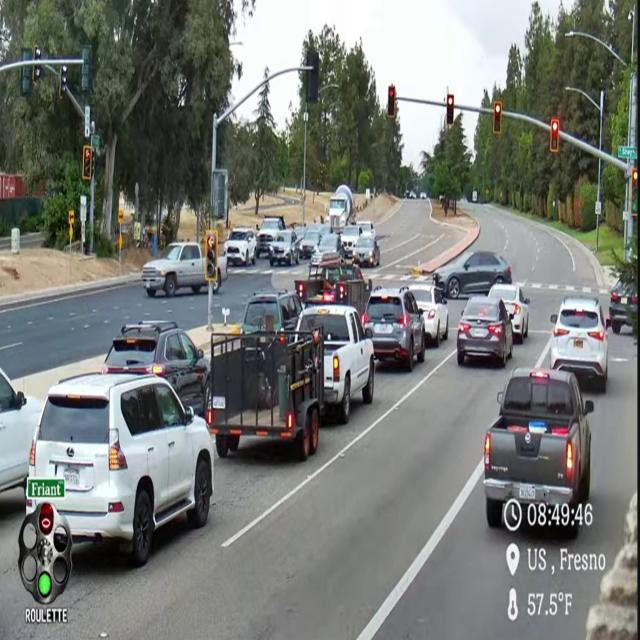car: (29, 374, 213, 566), (102, 320, 210, 415), (550, 297, 610, 392), (362, 287, 426, 370), (0, 368, 41, 491), (457, 296, 513, 367), (433, 251, 511, 299), (242, 290, 302, 333), (409, 283, 448, 345), (489, 284, 529, 343), (609, 281, 637, 334), (225, 228, 256, 266), (269, 230, 299, 266), (312, 232, 343, 260), (353, 235, 380, 266), (341, 224, 362, 258), (300, 225, 321, 259), (357, 221, 376, 238), (409, 191, 416, 199), (420, 192, 426, 199)
traffic signal: (306, 50, 319, 103), (205, 230, 218, 282), (81, 45, 92, 94), (20, 66, 32, 97), (82, 145, 92, 181), (387, 85, 397, 119), (58, 65, 68, 99), (550, 119, 559, 153), (493, 101, 502, 135), (446, 94, 454, 126), (632, 167, 637, 217), (32, 64, 41, 82), (632, 168, 637, 189)
truck: (484, 368, 593, 536), (206, 331, 323, 461), (296, 305, 374, 423), (295, 254, 372, 315), (142, 242, 207, 296), (328, 184, 355, 232), (256, 216, 285, 257)
